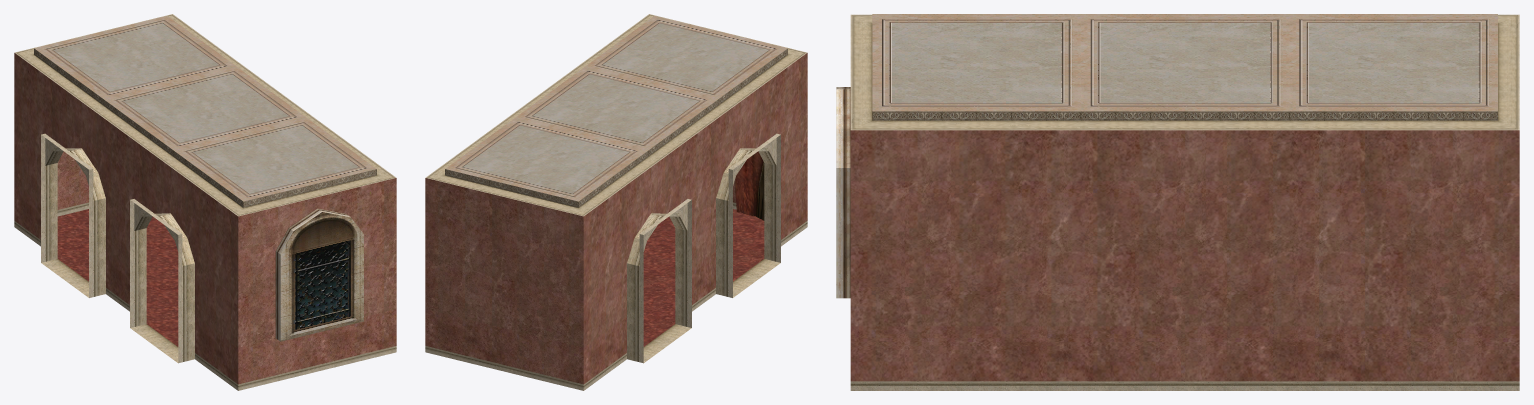
File: ply_nboo_house_m_s01_fp1_r7_foyerup_mesh_r7.fbx
3 renders of one model, left to right at view 1: azimuth 30°, elevation 25°; view 2: azimuth 150°, elevation 25°; view 3: azimuth 270°, elevation 25°, orthographic. The views are drawn at different scales.
Visible parts, largest first — view 1: mesh_node; view 2: mesh_node; view 3: mesh_node.
Boxes of the visible parts, box(x1,y1,x2,y2) form: mesh_node: box(14, 14, 396, 390); mesh_node: box(425, 14, 807, 390); mesh_node: box(836, 14, 1519, 390).
Bounding box in the file's own units: 4.2 × 4.15 × 9.5.
